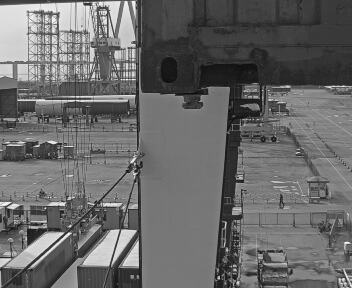twist_lock_1: (170, 83, 216, 116)
